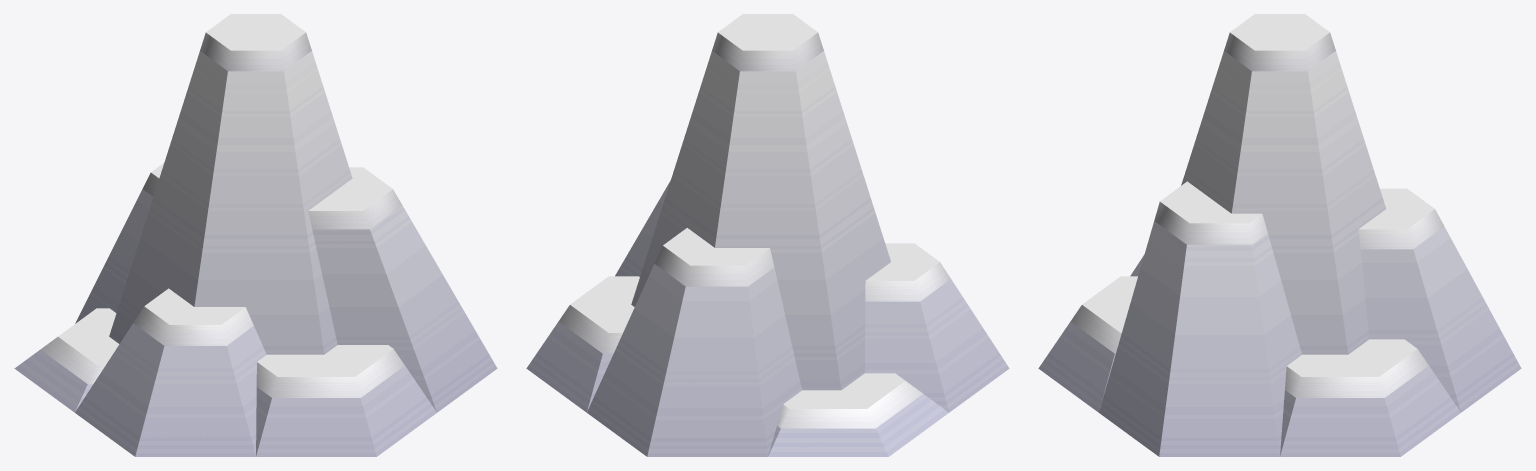
The model's file is mountain_snow.glb.
3 views of the same model, side by side, from view 1: azimuth 30°, elevation 25°; view 2: azimuth 150°, elevation 25°; view 3: azimuth 270°, elevation 25° (orthographic).
Visible parts, largest first — view 1: stone-mountain; view 2: stone-mountain; view 3: stone-mountain.
Boxes of the visible parts, <box> form: stone-mountain: <box>14,14,497,456</box>; stone-mountain: <box>526,14,1009,456</box>; stone-mountain: <box>1038,14,1521,456</box>.
Bounding box in the file's own units: 1 × 0.8864 × 1.15.
Materials: 1 (1 with a texture image).
